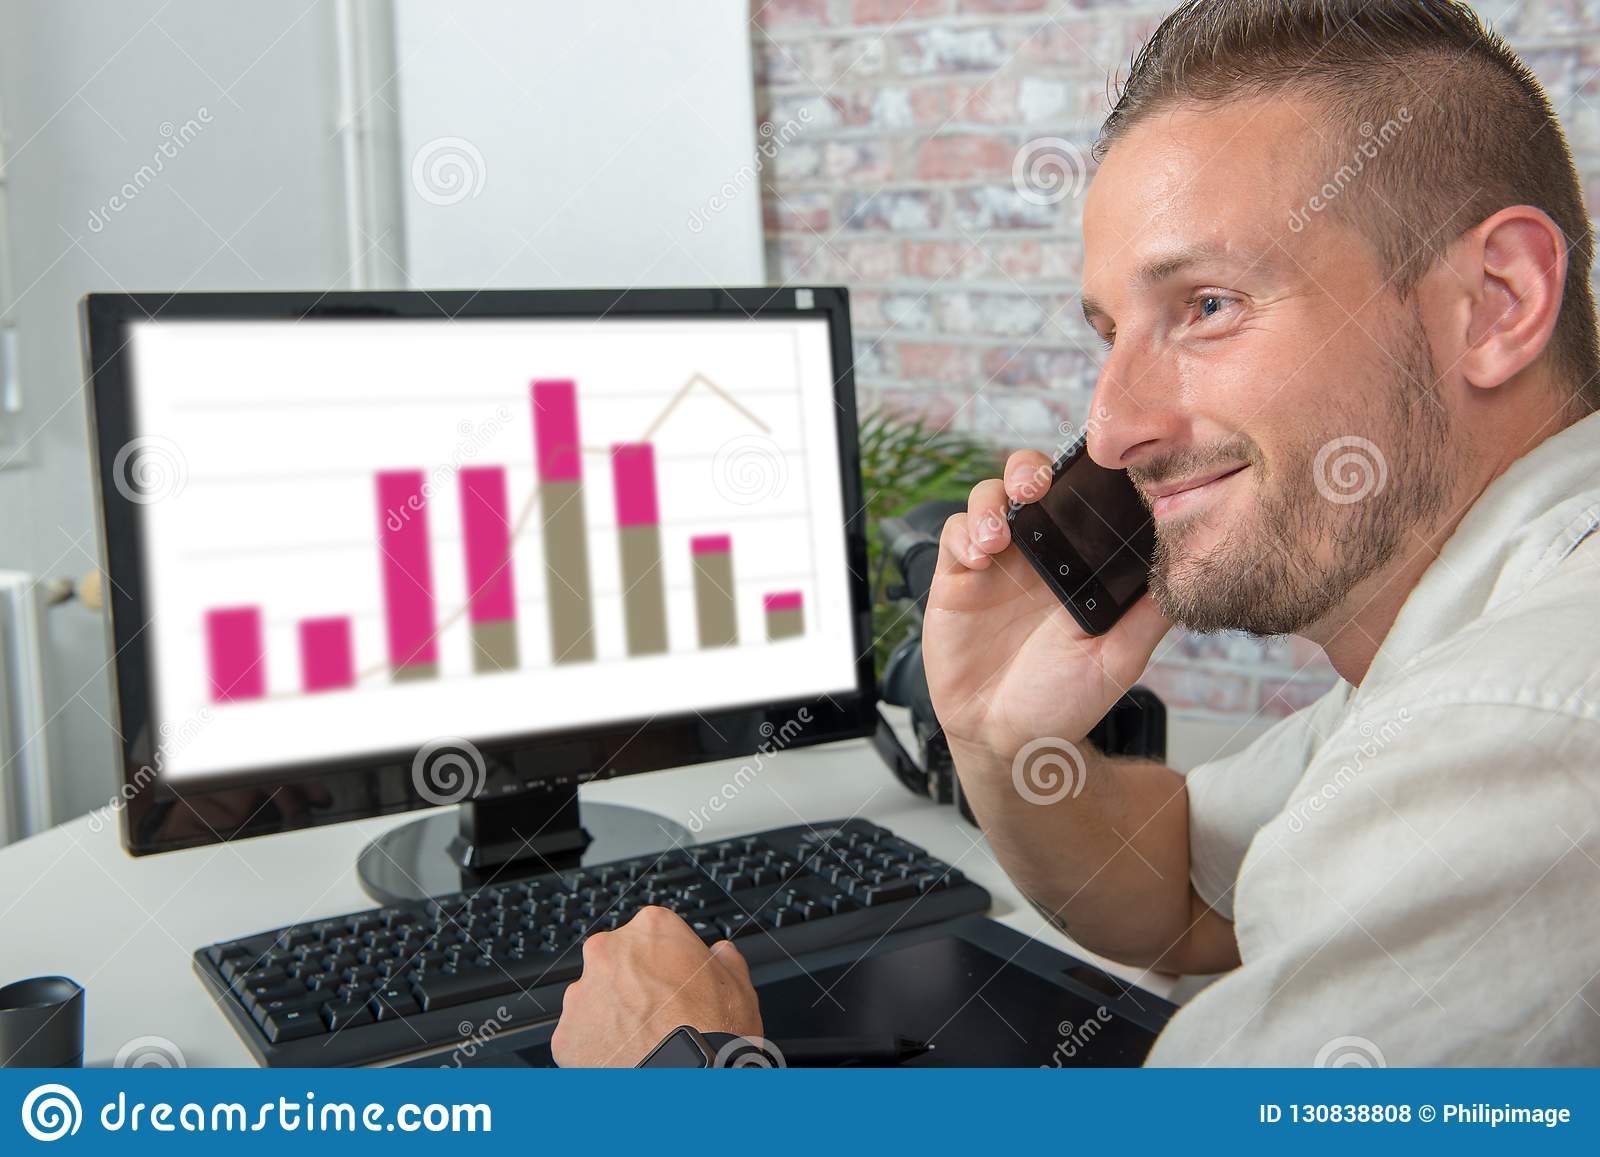phone: (1000, 415, 1163, 651)
talk: (919, 230, 1297, 771)
